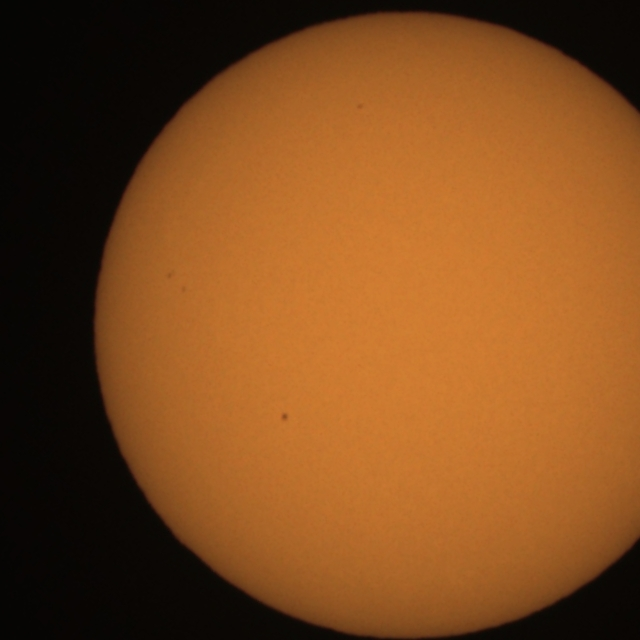sunspot: (279, 412, 290, 424), (355, 102, 365, 112), (165, 269, 174, 280)
